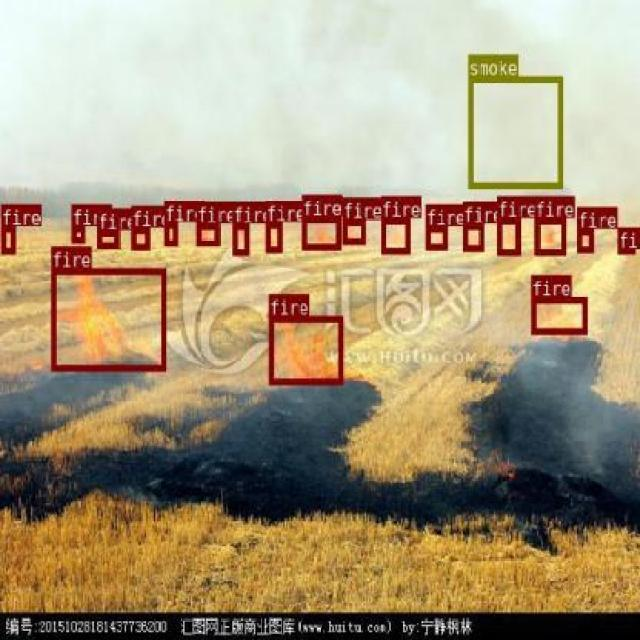Fire: (50, 268, 166, 370), (268, 315, 342, 383), (530, 295, 586, 334), (302, 215, 341, 248), (534, 218, 564, 255), (381, 218, 408, 252), (496, 217, 518, 254), (264, 220, 282, 252), (342, 218, 364, 244), (462, 223, 484, 249), (232, 221, 248, 254), (425, 226, 447, 248), (196, 223, 218, 244), (96, 229, 118, 248), (576, 228, 593, 252), (130, 226, 148, 248), (1, 225, 14, 253), (165, 222, 178, 244), (70, 226, 84, 242)
Smoke: (468, 75, 562, 188)
